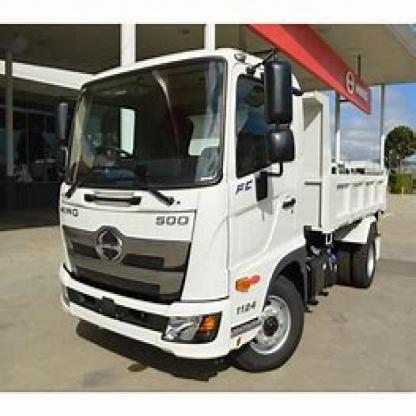dump_truck: (46, 33, 395, 379)
